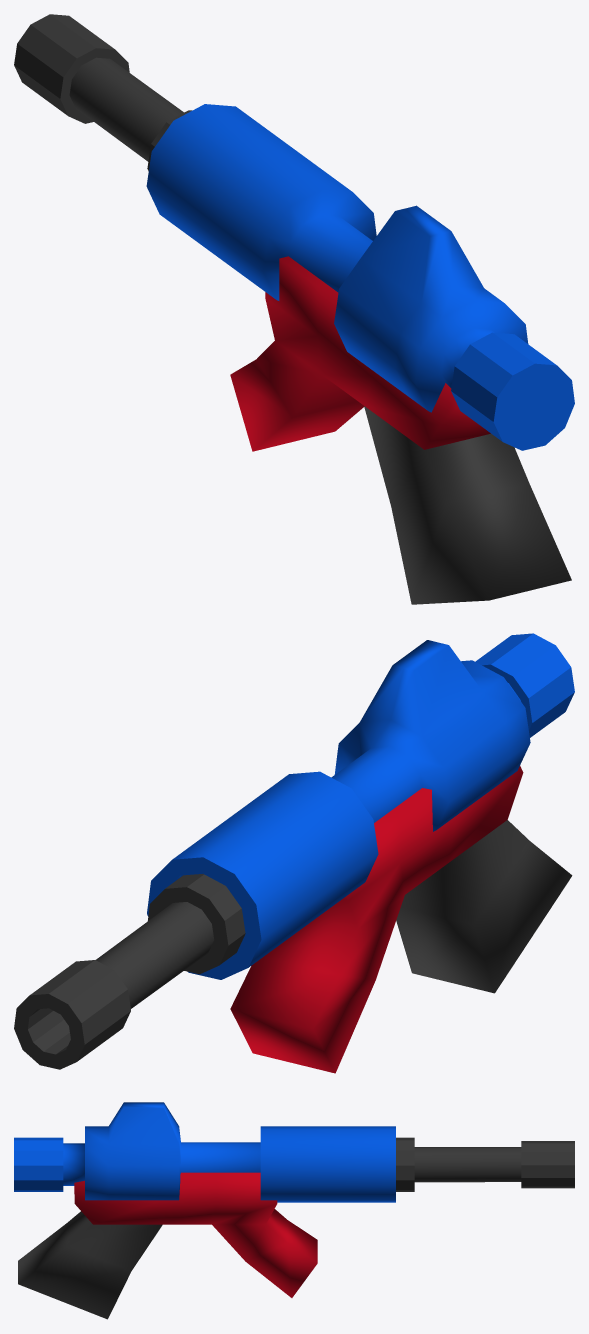
File: Gun.fbx
The picture shows the model from 3 angles, top to bottom: view 1: azimuth 30°, elevation 25°; view 2: azimuth 150°, elevation 25°; view 3: azimuth 270°, elevation 25°; orthographic projection. The views are drawn at different scales.
Visible parts, largest first — view 1: halloween_gun; view 2: halloween_gun; view 3: halloween_gun.
Part boxes in pixels (box(x1,y1,x2,y2)): halloween_gun: box(14, 14, 574, 604); halloween_gun: box(14, 633, 574, 1073); halloween_gun: box(14, 1102, 574, 1319).
Size of the model in its own units: 0.5986 by 1.75 by 4.39.
